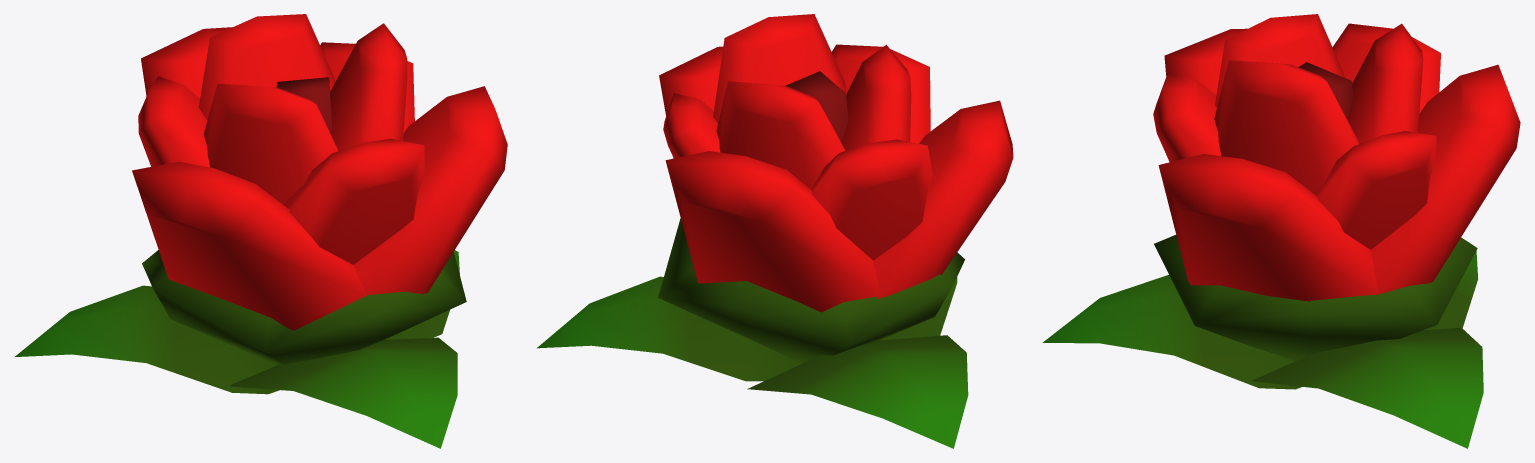
The model's file is Flower04.fbx.
The picture shows the model from 3 angles, left to right: view 1: azimuth 30°, elevation 25°; view 2: azimuth 150°, elevation 25°; view 3: azimuth 270°, elevation 25°; orthographic projection. The views are drawn at different scales.
Parts seen in each view (by area): view 1: LOD0; view 2: LOD0; view 3: LOD0.
Boxes of the visible parts, bbox=[...] form: LOD0: bbox=[15, 14, 507, 448]; LOD0: bbox=[537, 14, 1013, 448]; LOD0: bbox=[1043, 14, 1520, 448].
Size of what is drawn, in the model's own units: 51.39 by 49.22 by 39.29.
